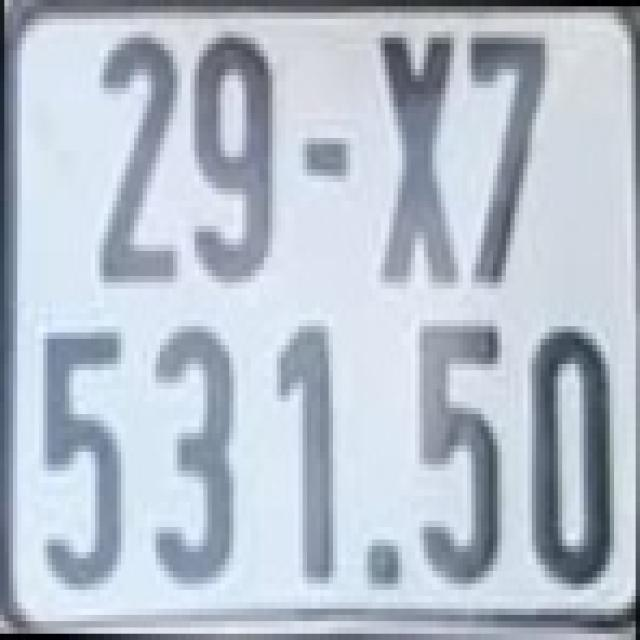0: (530, 323, 616, 587)
1: (275, 317, 348, 580)
2: (95, 28, 182, 286)
3: (149, 317, 240, 587)
5: (411, 310, 506, 580), (36, 320, 128, 584)
7: (467, 28, 549, 286)
9: (188, 25, 279, 282)
X: (376, 28, 458, 286)
